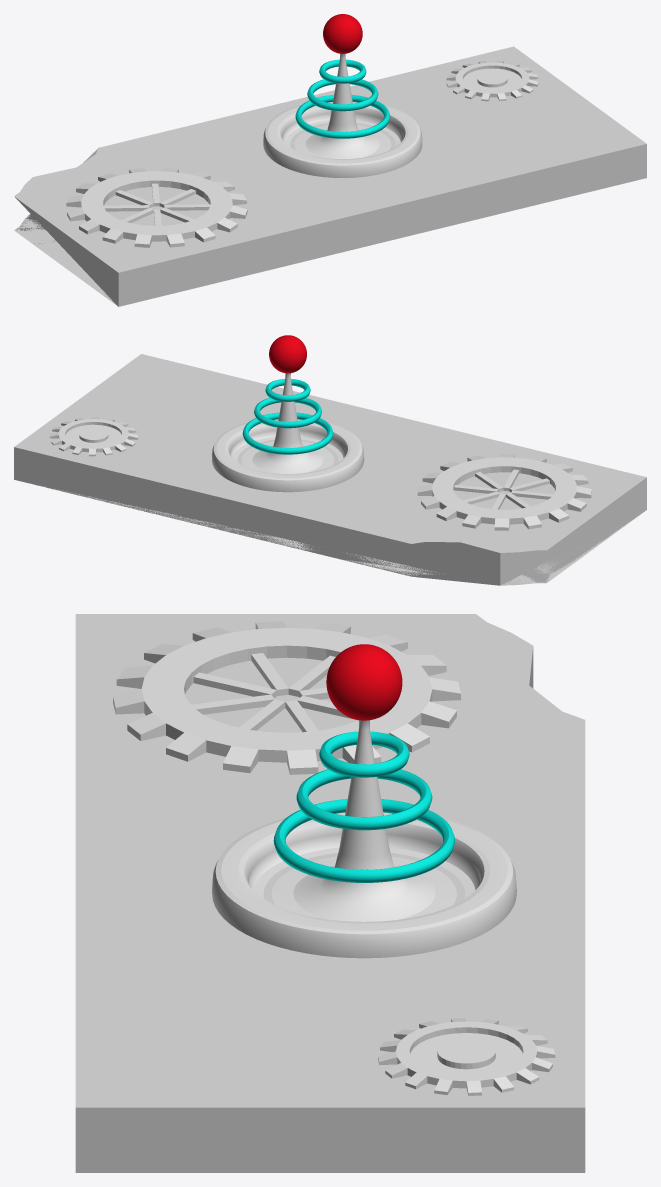
The model's file is Wall+Laser.fbx.
The picture shows the model from 3 angles, top to bottom: view 1: azimuth 30°, elevation 25°; view 2: azimuth 150°, elevation 25°; view 3: azimuth 270°, elevation 25°; orthographic projection. The views are drawn at different scales.
Parts seen in each view (by area): view 1: Cube, Cylinder, Cylinder.001, Cylinder.003, gearA, Cylinder.002; view 2: Cube, Cylinder, Cylinder.001, Cylinder.003, gearA, Cylinder.002; view 3: Cube, Cylinder.001, Cylinder, Cylinder.003, gearA, Cylinder.002.
Boxes of the visible parts, left/top/right/bottom form: Cube: left=14, top=46, right=646, bottom=306; Cylinder: left=66, top=168, right=247, bottom=247; Cylinder.001: left=263, top=53, right=422, bottom=177; Cylinder.003: left=295, top=59, right=390, bottom=138; gearA: left=446, top=60, right=538, bottom=101; Cylinder.002: left=323, top=14, right=362, bottom=53; Cube: left=14, top=354, right=646, bottom=585; Cylinder: left=417, top=454, right=591, bottom=530; Cylinder.001: left=212, top=373, right=364, bottom=492; Cylinder.003: left=242, top=379, right=333, bottom=454; gearA: left=49, top=417, right=137, bottom=456; Cylinder.002: left=269, top=335, right=306, bottom=373; Cube: left=75, top=614, right=585, bottom=1172; Cylinder.001: left=212, top=720, right=516, bottom=958; Cylinder: left=113, top=621, right=460, bottom=774; Cylinder.003: left=273, top=731, right=454, bottom=882; gearA: left=378, top=1018, right=555, bottom=1095; Cylinder.002: left=326, top=644, right=402, bottom=720.
Bounding box in the file's own units: 458 × 135 × 200.
